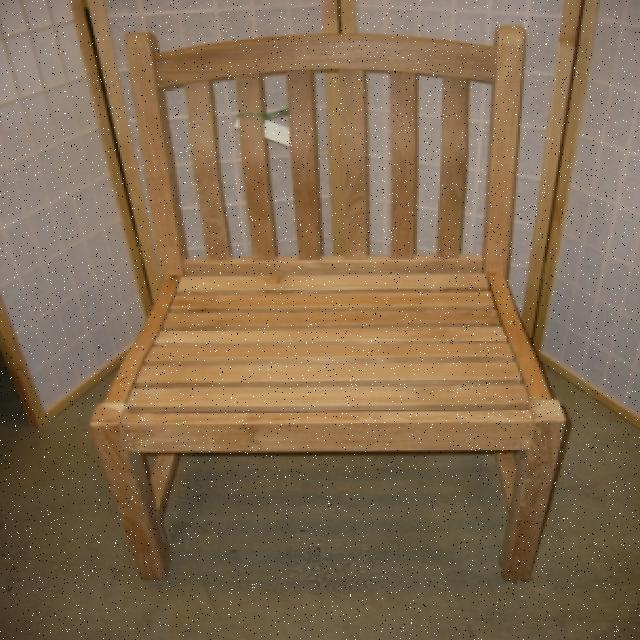Chair: (52, 14, 596, 622)
